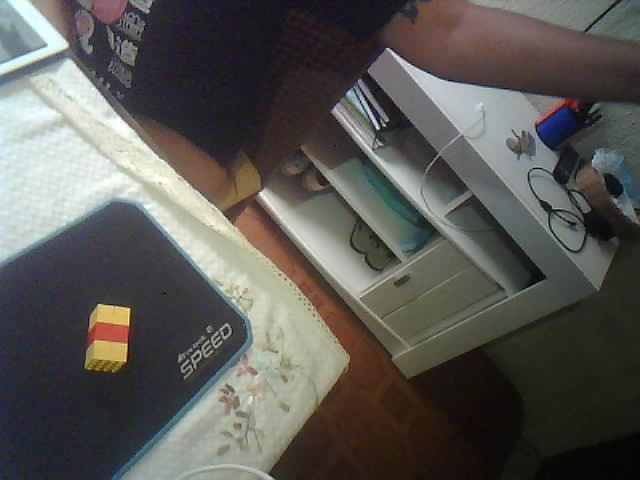lego: (83, 303, 132, 373)
